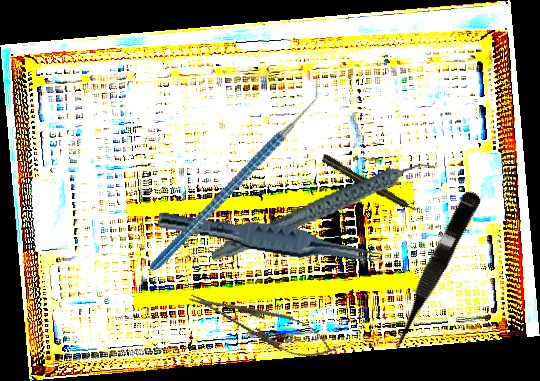Chopper: (107, 77, 365, 272)
Handpiece: (202, 159, 445, 264), (319, 152, 421, 217)
Micro Scissor: (382, 187, 483, 357)
Needle Holder: (183, 279, 341, 369)
Tissue Forceps: (155, 210, 385, 269)
